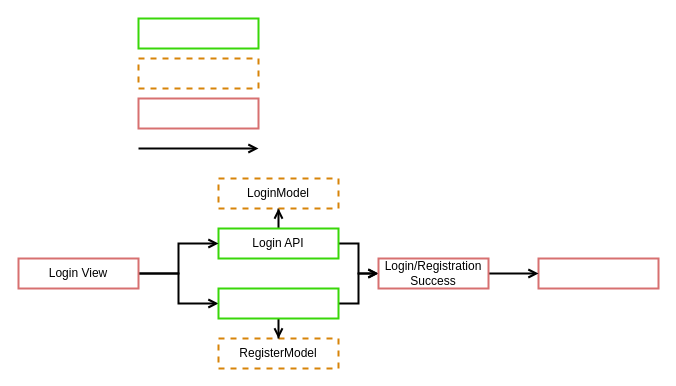
The diagram is 676 pixels wide and 386 high, and some of its shapes have lost their labels. The shapes that lost their labels are listed below. From the top down, each one's centre as x and y in pixels, then its label:
point (598, 273): Main Dashboard
point (278, 303): Register API
